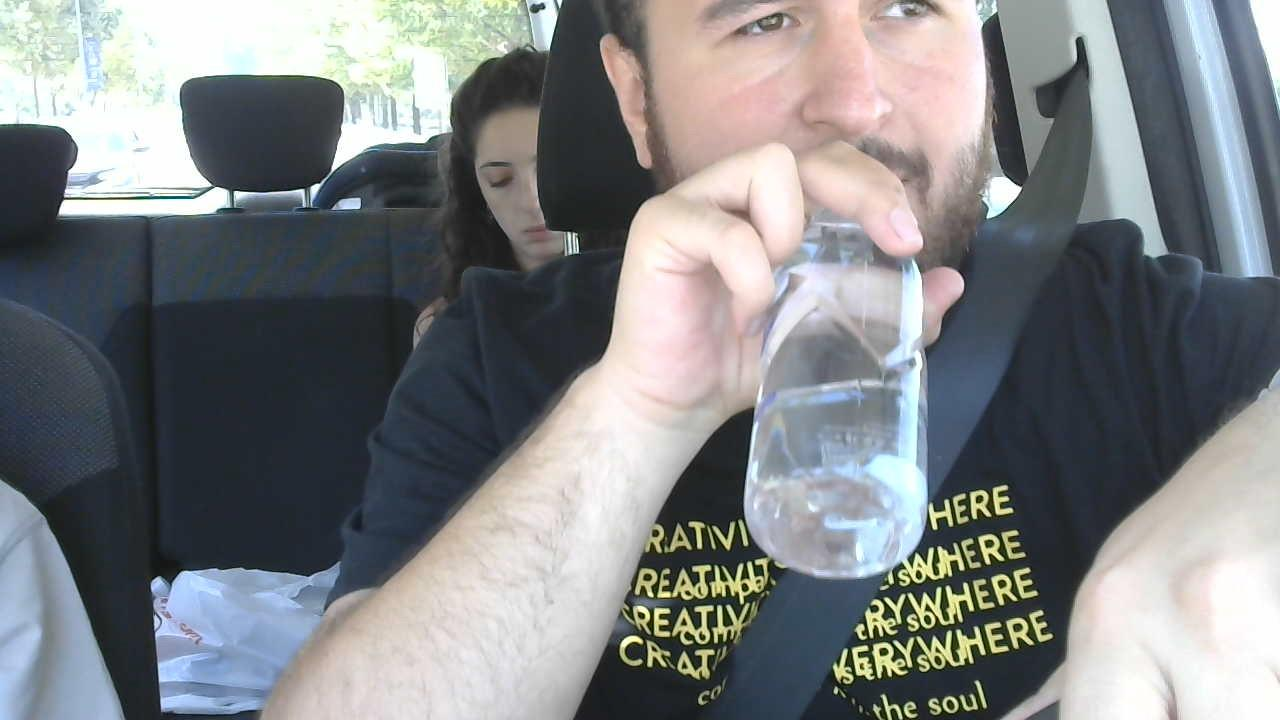Drinking: (598, 0, 986, 567)
